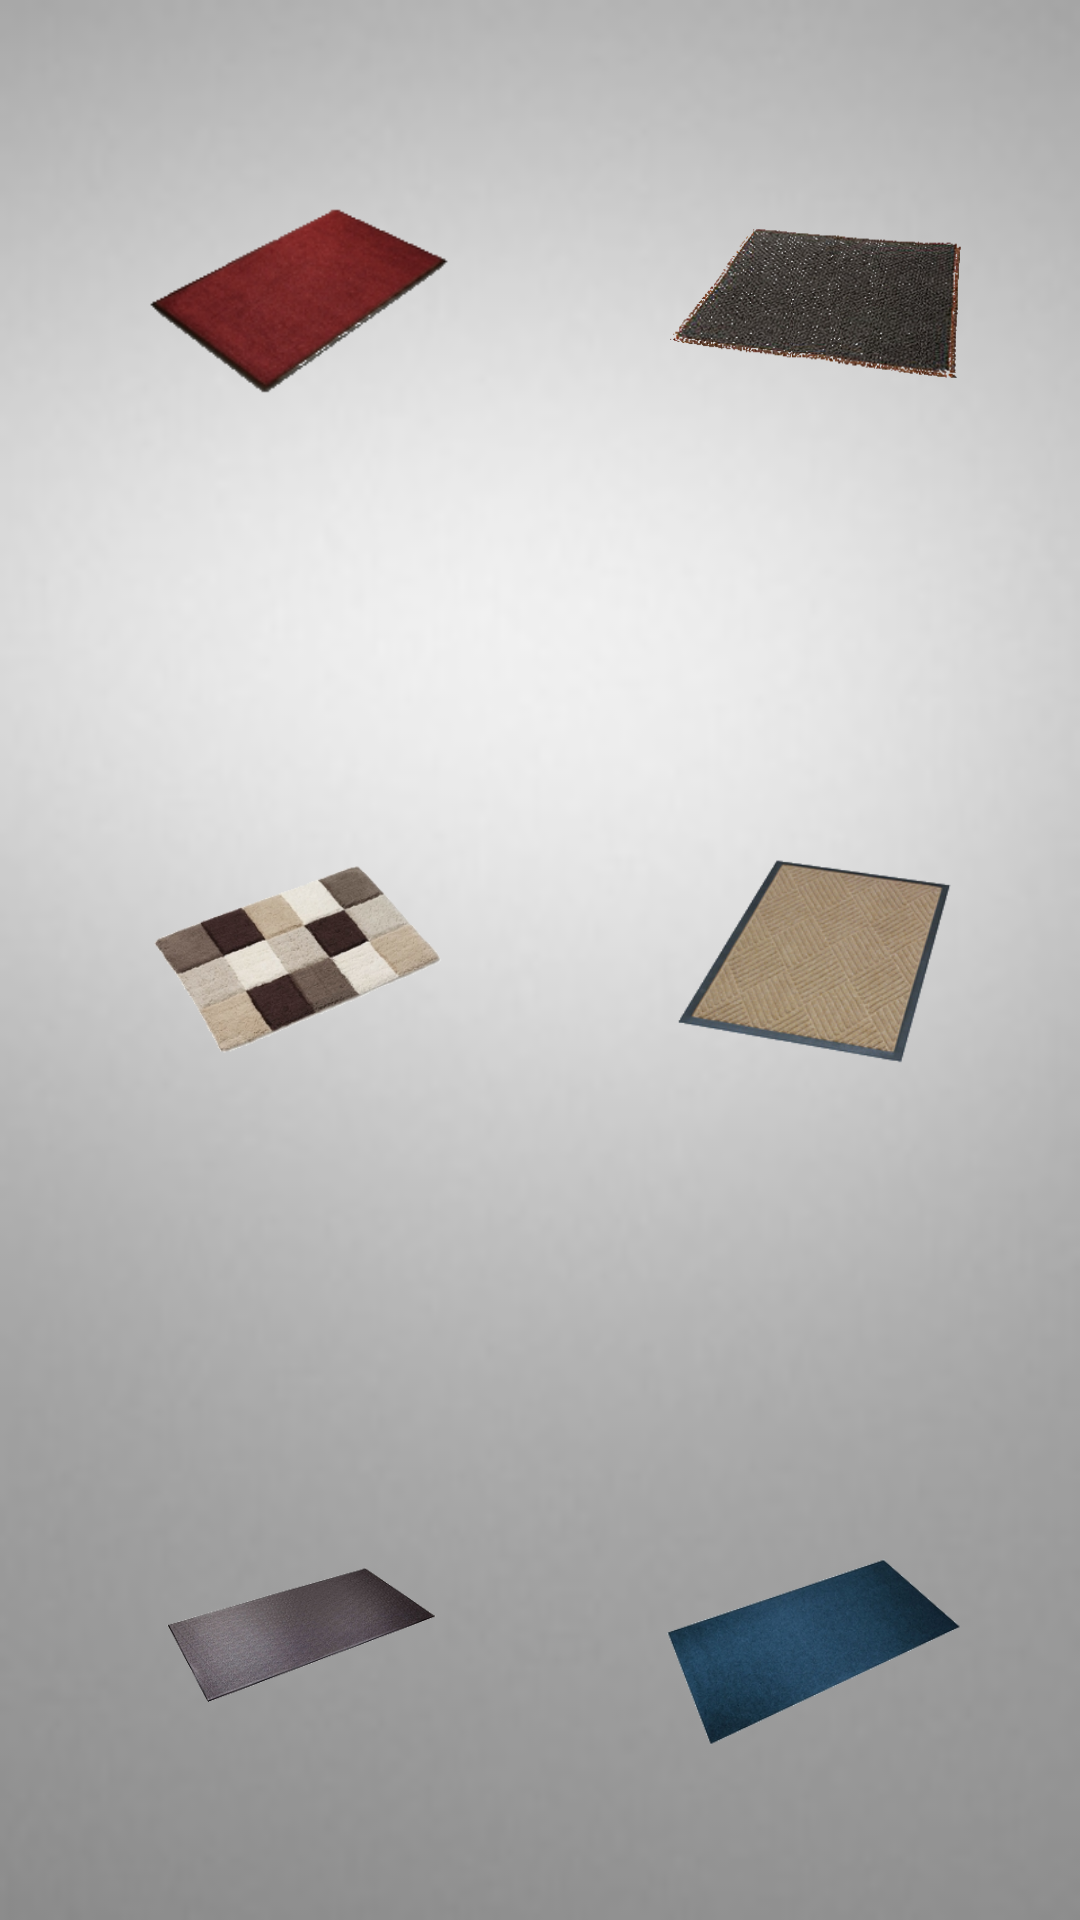

Screen size 1080x1920. Icon name, then its box in pixels as [x1, y1, x2, y2]:
mat: [149, 209, 449, 450], [664, 229, 961, 450], [679, 816, 950, 1062], [149, 866, 449, 1110], [667, 1560, 960, 1744], [149, 1568, 449, 1791]
